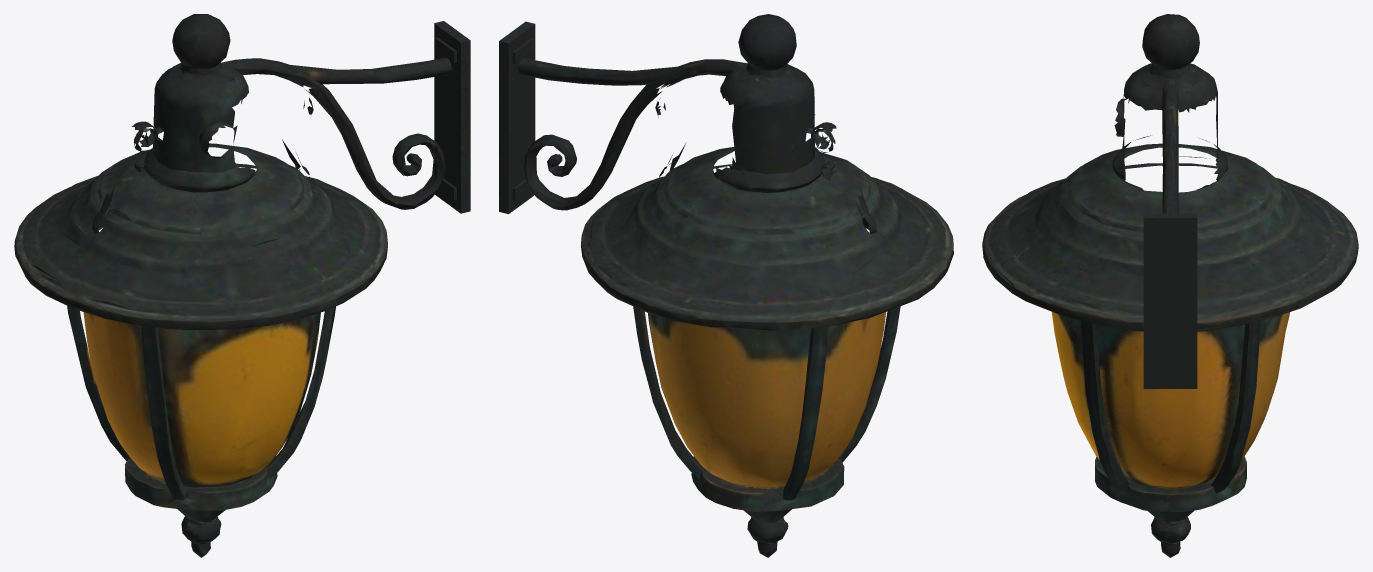
File: p2_wall_lamp.glb
3 views of the same model, side by side, from view 1: azimuth 30°, elevation 25°; view 2: azimuth 150°, elevation 25°; view 3: azimuth 270°, elevation 25° (orthographic).
Visible parts, largest first — view 1: main; view 2: main; view 3: main.
Boxes of the visible parts, x1=… form: main: x1=14, y1=14, x2=470, y2=557; main: x1=499, y1=14, x2=953, y2=557; main: x1=982, y1=14, x2=1358, y2=557.
Size of the model in its own units: 0.5249 by 0.6499 by 0.4097.
Materials: 1 (1 with a texture image).
